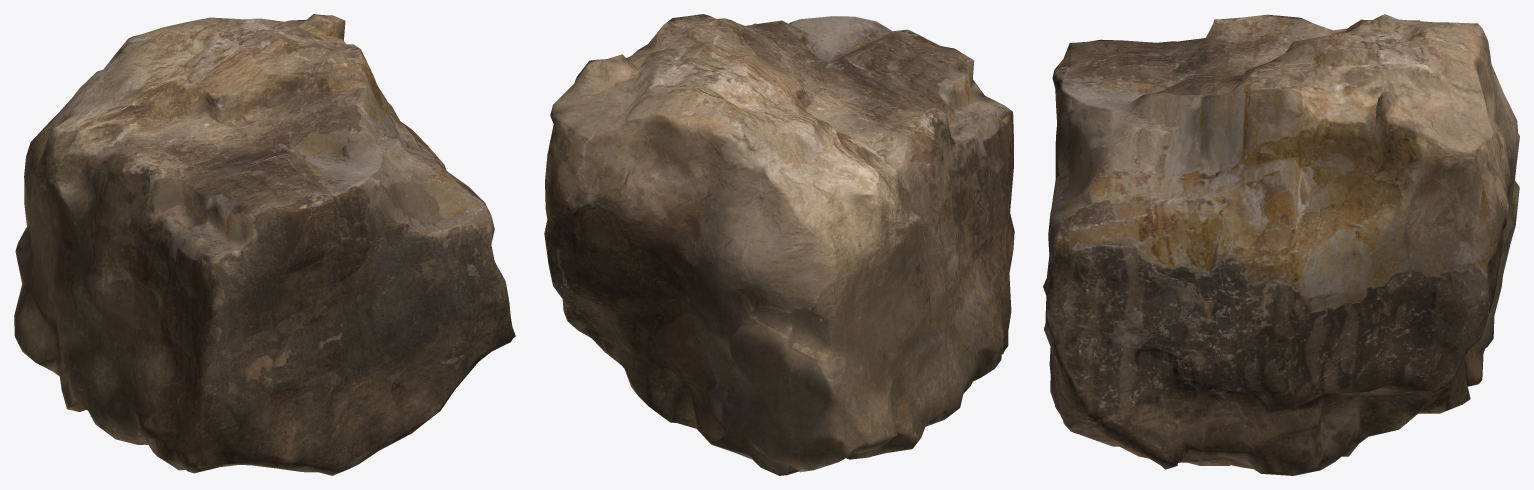
The model's file is vd3nbij_tier_2.gltf.
3 renders of one model, left to right at view 1: azimuth 30°, elevation 25°; view 2: azimuth 150°, elevation 25°; view 3: azimuth 270°, elevation 25°, orthographic. The views are drawn at different scales.
Visible parts, largest first — view 1: vd3nbij_LOD0_TIER2_000; view 2: vd3nbij_LOD0_TIER2_000; view 3: vd3nbij_LOD0_TIER2_000.
Boxes of the visible parts, <box> form: vd3nbij_LOD0_TIER2_000: <box>14,14,515,475</box>; vd3nbij_LOD0_TIER2_000: <box>544,14,1014,475</box>; vd3nbij_LOD0_TIER2_000: <box>1043,14,1519,475</box>.
Size of the model in its own units: 2.93 by 2.76 by 2.96.
1 material, 1 textured.
